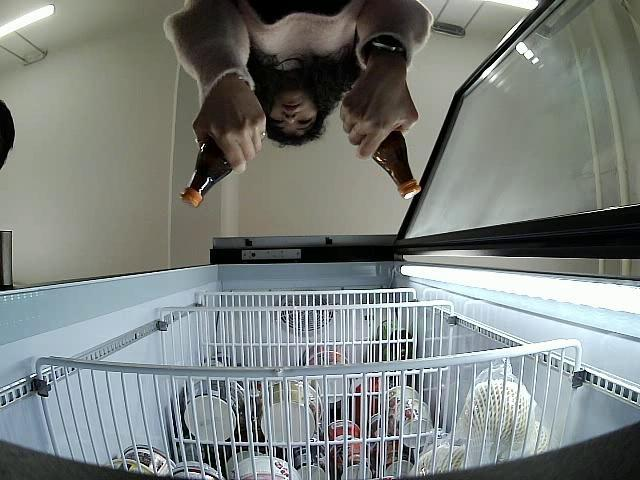17_vita500: (177, 138, 234, 208), (371, 128, 420, 200)
